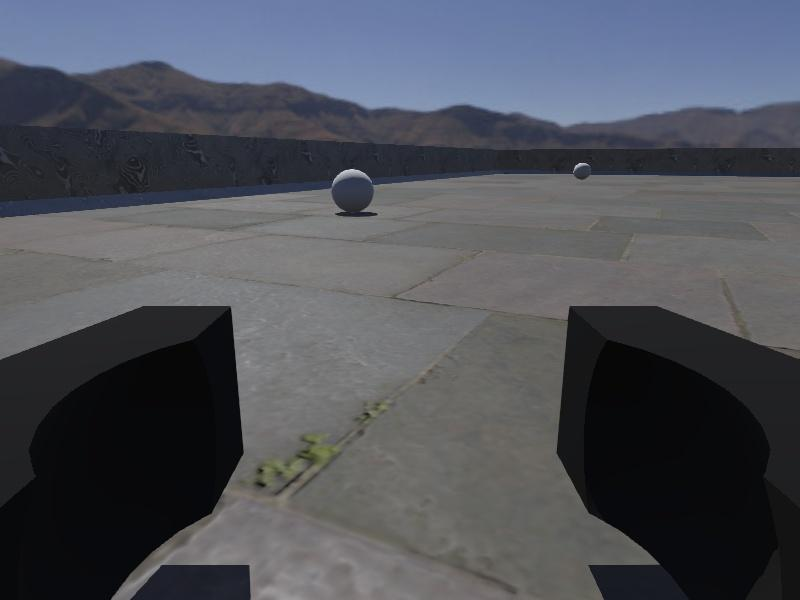white ball: (330, 166, 375, 214), (571, 161, 592, 181)
